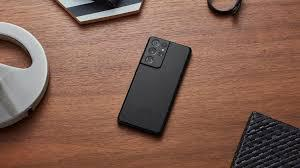Smartphone: (118, 39, 194, 126)
